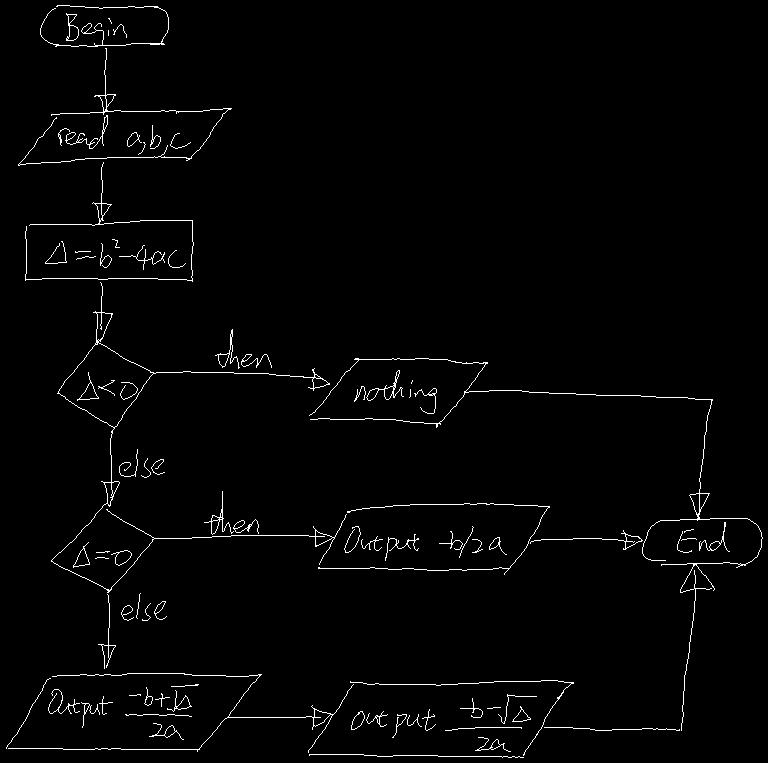arrow: (464, 390, 712, 520), (544, 563, 714, 730), (152, 368, 329, 390), (152, 526, 333, 546), (228, 705, 332, 729), (530, 530, 642, 549), (94, 48, 115, 114), (101, 431, 119, 506), (98, 594, 115, 668), (93, 282, 112, 344), (92, 162, 111, 223)
data: (308, 680, 573, 757), (6, 673, 261, 751), (318, 503, 549, 574), (309, 358, 487, 427), (18, 108, 231, 165)
decision: (51, 502, 154, 592), (57, 339, 153, 432)
process: (25, 220, 193, 281)
terminator: (642, 518, 762, 567), (40, 5, 168, 46)
text: (351, 694, 536, 751), (48, 684, 198, 739), (344, 526, 506, 560), (58, 115, 190, 155), (45, 239, 185, 269), (354, 370, 436, 413), (204, 491, 258, 534), (215, 329, 271, 368), (66, 13, 126, 45), (77, 372, 137, 400), (677, 522, 729, 552), (73, 542, 131, 567), (119, 449, 164, 477), (121, 593, 166, 620)
